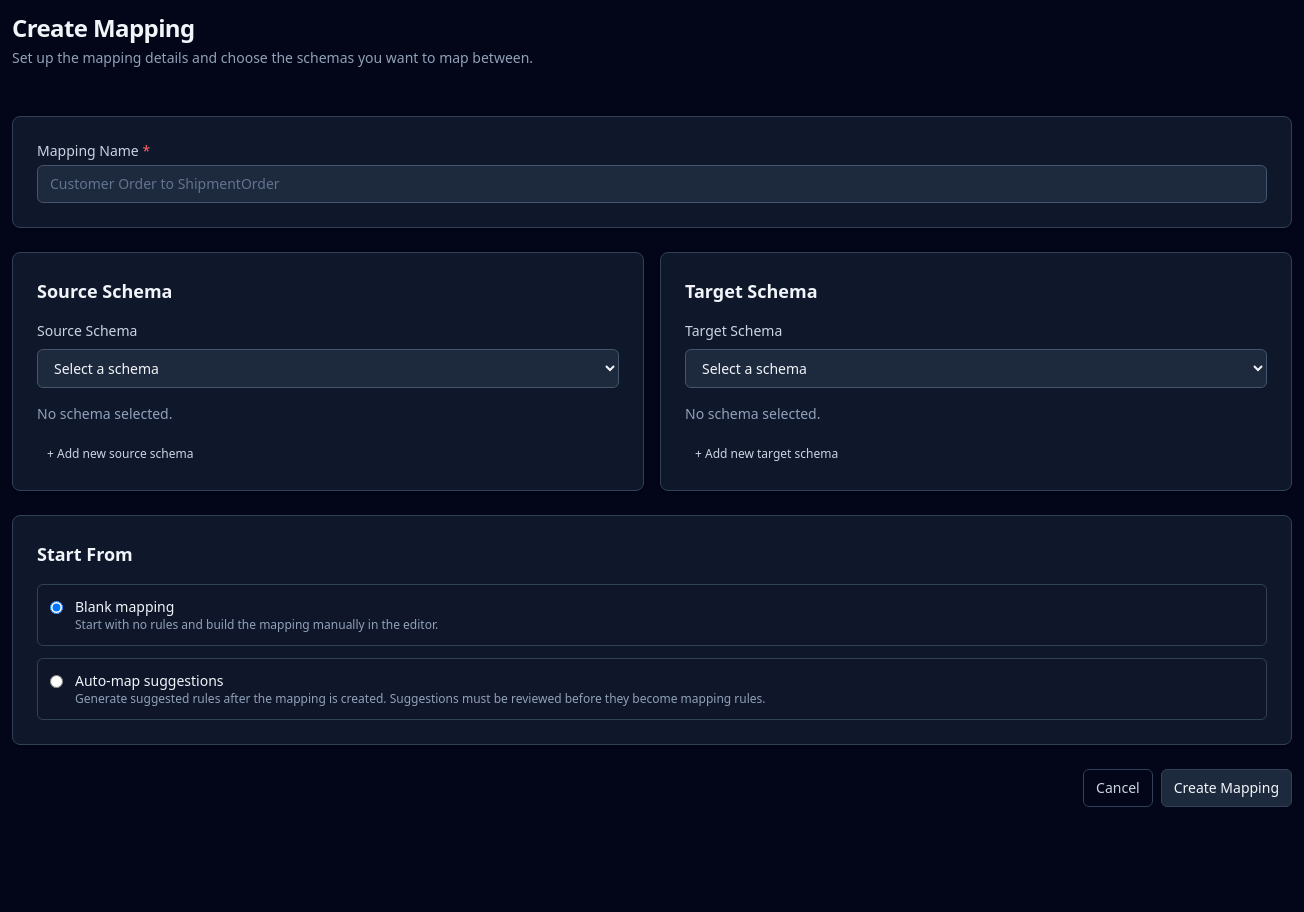
Test case: CreateMappingPage (FS-088 T-08) › AE-10: defaults to blank mapping and updates primary CTA label by selected start mode
The image size is (1304, 912).
expect the radio button labelled "Blank mapping" is checked: met, box [50,601,63,614]
expect the button with test id "create-button" reads "Create Mapping": met, box [1161,769,1292,807]
Click the radio button labelled "Auto-map suggestions": {"x": 56, "y": 682} [50,675,63,688]
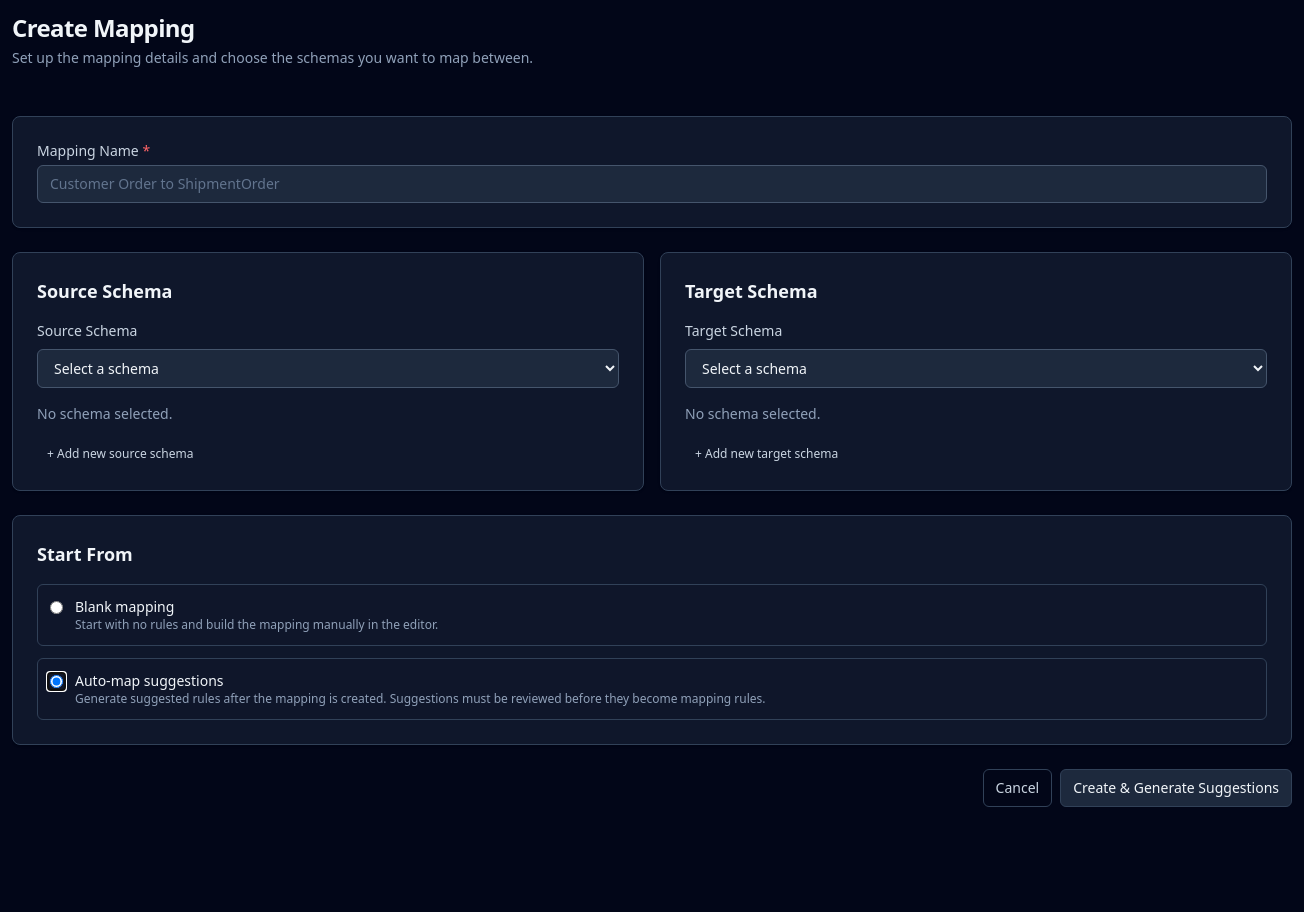
expect the button with test id "create-button" reads "Create & Generate Suggestions": met, box [1060,769,1292,807]
Click the radio button labelled "Blank mapping": {"x": 56, "y": 608} [50,601,63,614]
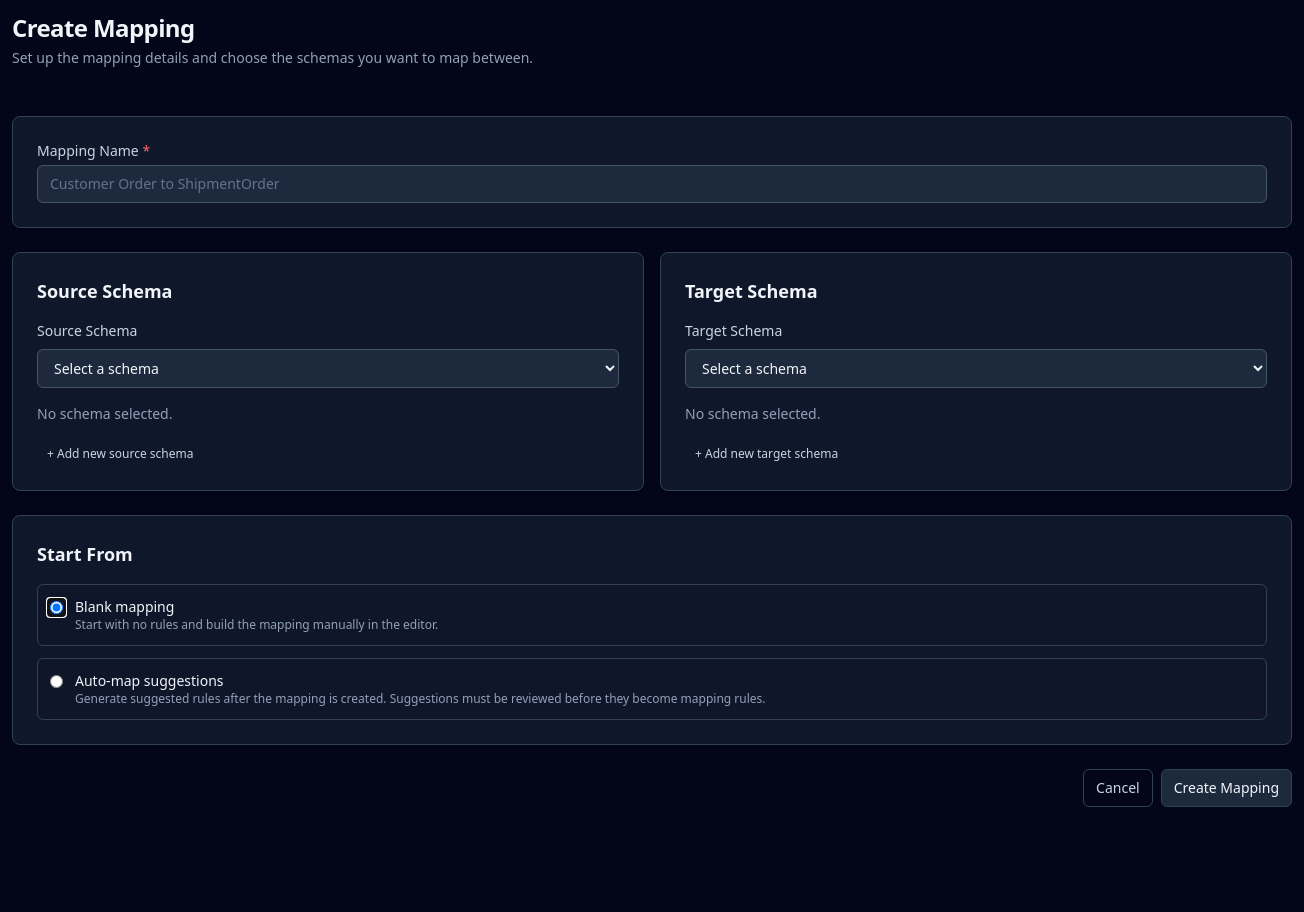
expect the button with test id "create-button" reads "Create Mapping": met, box [1161,769,1292,807]
